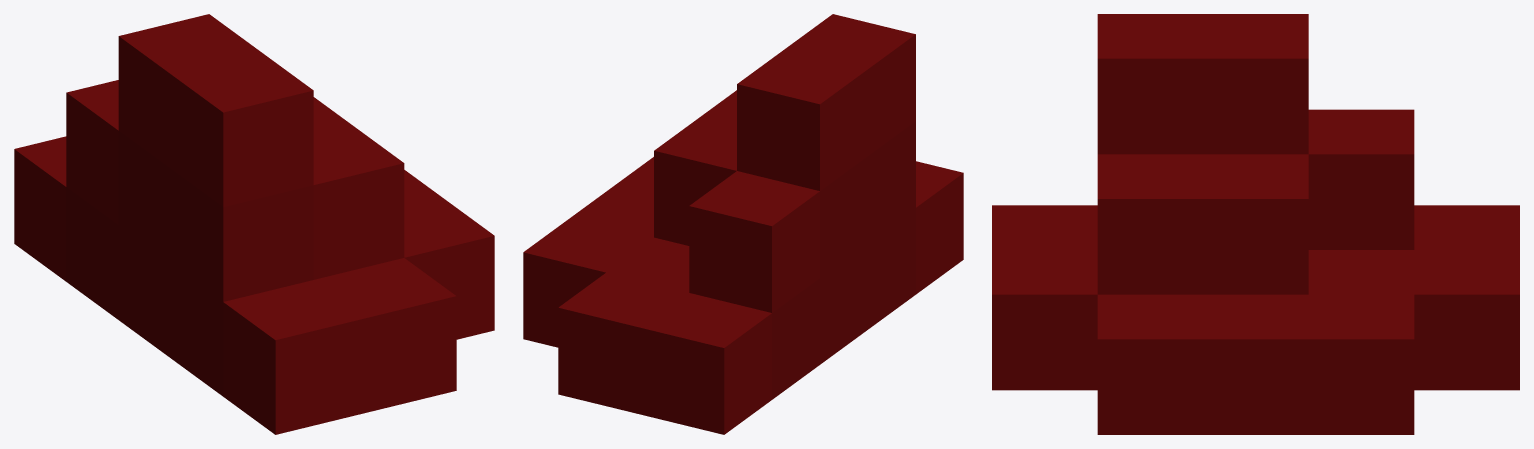
File: amnyam_anger-1.obj
3 renders of one model, left to right at view 1: azimuth 30°, elevation 25°; view 2: azimuth 150°, elevation 25°; view 3: azimuth 270°, elevation 25°, orthographic. The views are drawn at different scales.
Bounding box in the file's own units: 0.3 × 0.3 × 0.5.
Materials: 1 (1 with a texture image).
